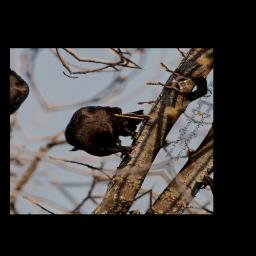Crow: (52, 88, 158, 172)
